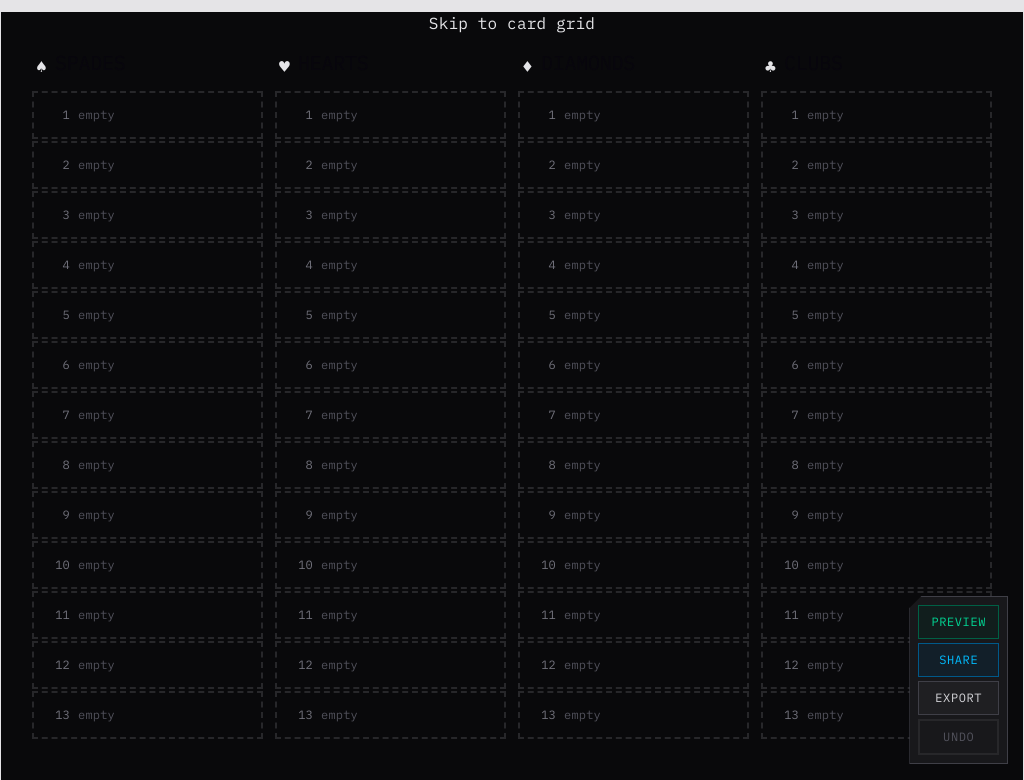
Test case: Workbench › clicking Share again closes the dropdown
Click the button "Share": click(959, 660) top-left (918, 643), bottom-right (999, 677)
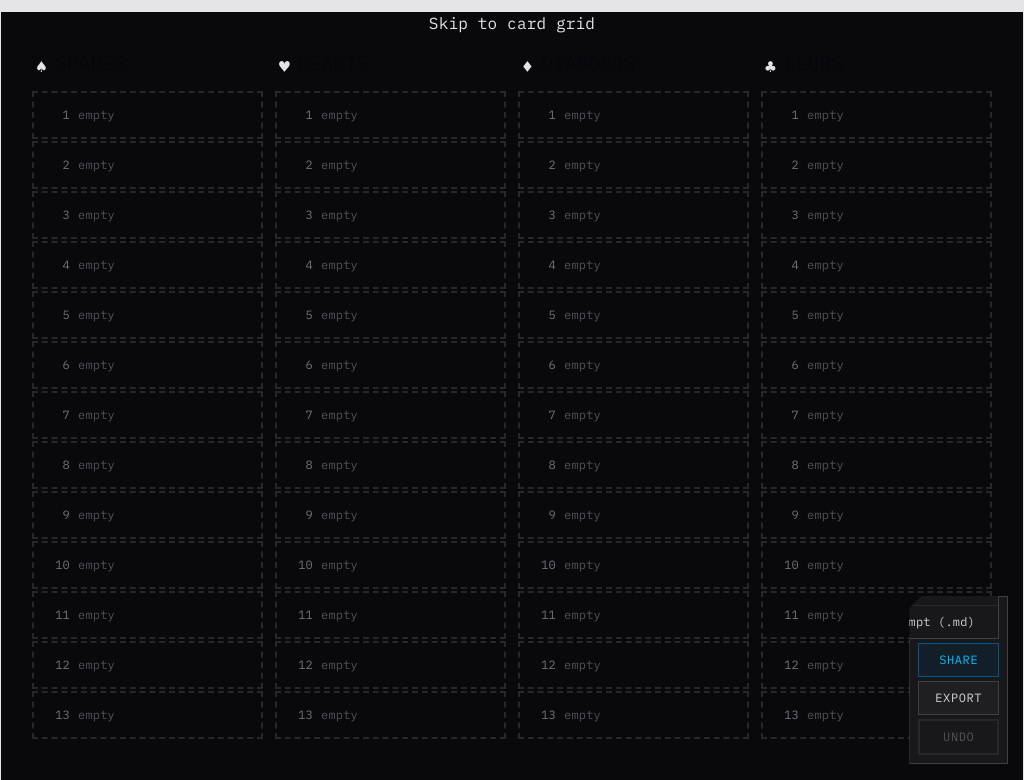
Check: the button "Share for Remix (.intc)" is shown, box top-left (808, 557), bottom-right (998, 606)
Click the button "Share": click(959, 660) top-left (918, 643), bottom-right (999, 677)
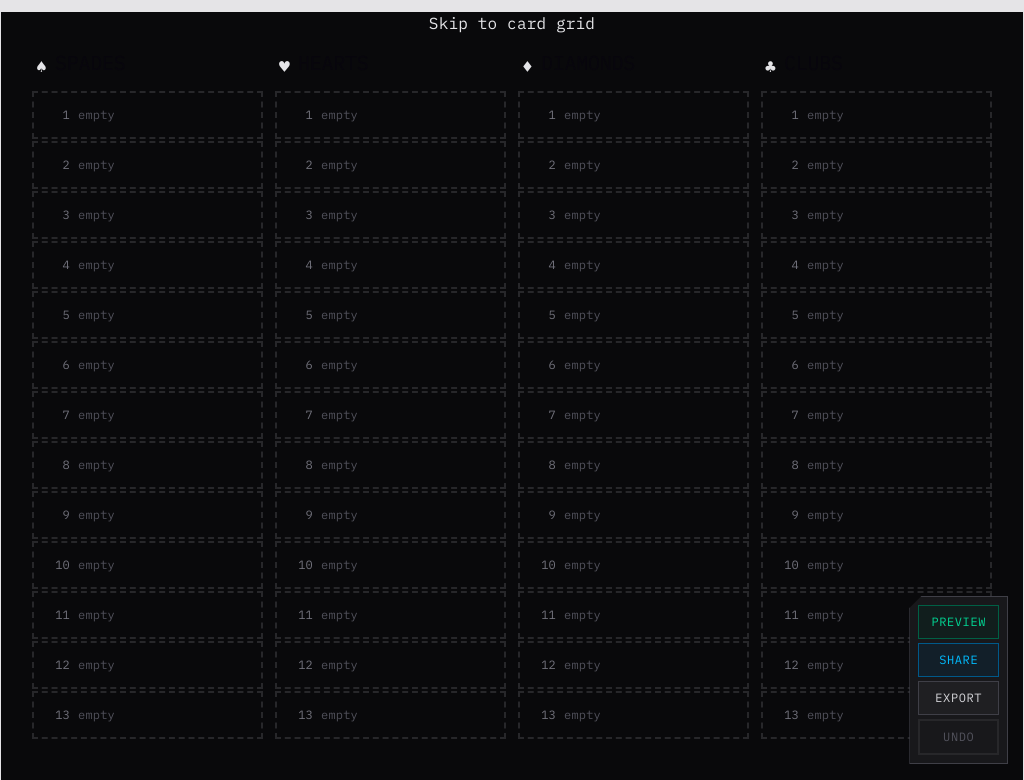
Check: the button "Remix" is gone
